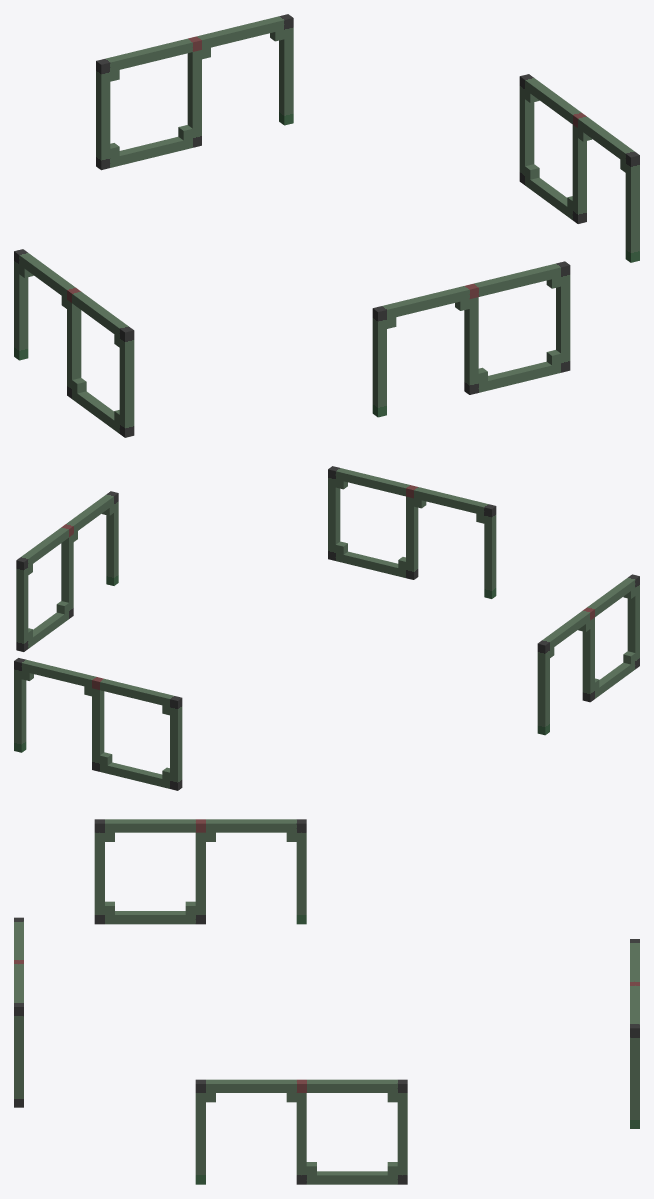
Rendered from pattern_0.glb.
3 renders of one model, top to bottom at view 1: azimuth 30°, elevation 25°; view 2: azimuth 150°, elevation 25°; view 3: azimuth 270°, elevation 25°, orthographic. The views are drawn at different scales.
Parts seen in each view (by area): view 1: crate_pattern_0; view 2: crate_pattern_0; view 3: crate_pattern_0.
Part boxes in pixels (<box>): crate_pattern_0: <box>14,14,639,437</box>; crate_pattern_0: <box>14,466,639,790</box>; crate_pattern_0: <box>14,819,639,1184</box>.
Size of the model in its own units: 6.2 by 1.1 by 6.2.
Materials: 1 (1 with a texture image).
